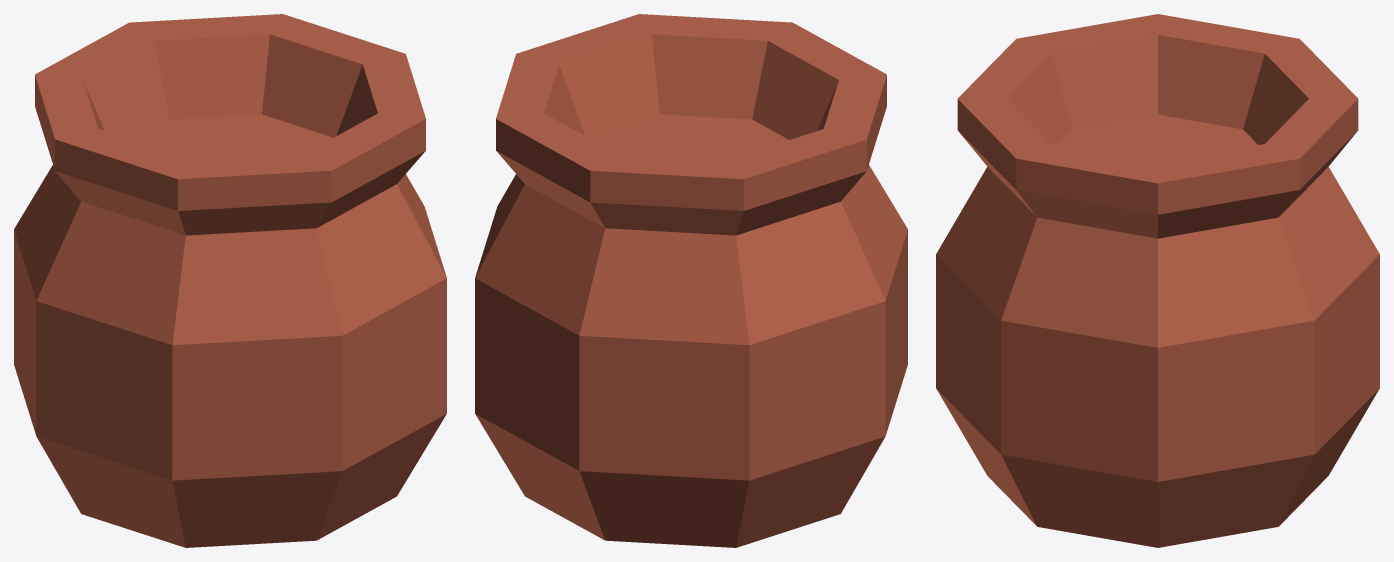
The model's file is pot_1.fbx.
The picture shows the model from 3 angles, left to right: view 1: azimuth 30°, elevation 25°; view 2: azimuth 150°, elevation 25°; view 3: azimuth 270°, elevation 25°; orthographic projection.
Visible parts, largest first — view 1: pot_1; view 2: pot_1; view 3: pot_1.
Boxes of the visible parts, bbox=[...] form: pot_1: bbox=[14, 14, 446, 547]; pot_1: bbox=[475, 14, 907, 547]; pot_1: bbox=[936, 14, 1379, 547].
Size of the model in its own units: 60.96 by 57.17 by 60.96.
